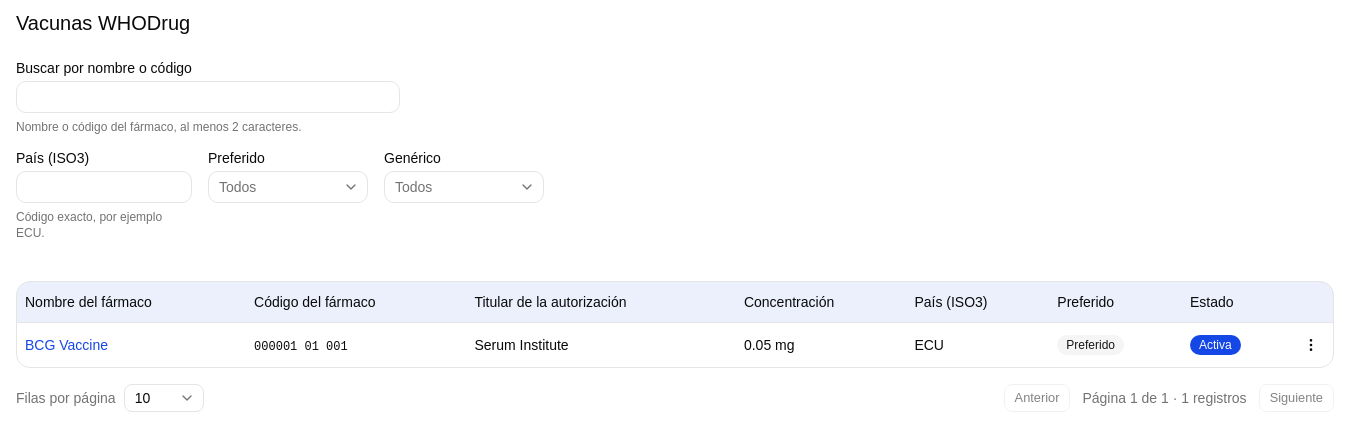
Test: VaccineWhodrugListPage — rol, filas y acciones (SPEC FE25c §3.1) › con USER no se ven el toggle, «Crear» ni «Importar»; la fila activa ofrece «Ver»
The image size is (1351, 429).
Click the button named "Acciones de la vacuna". click: (1311, 344)
box: [1297,330,1325,358]
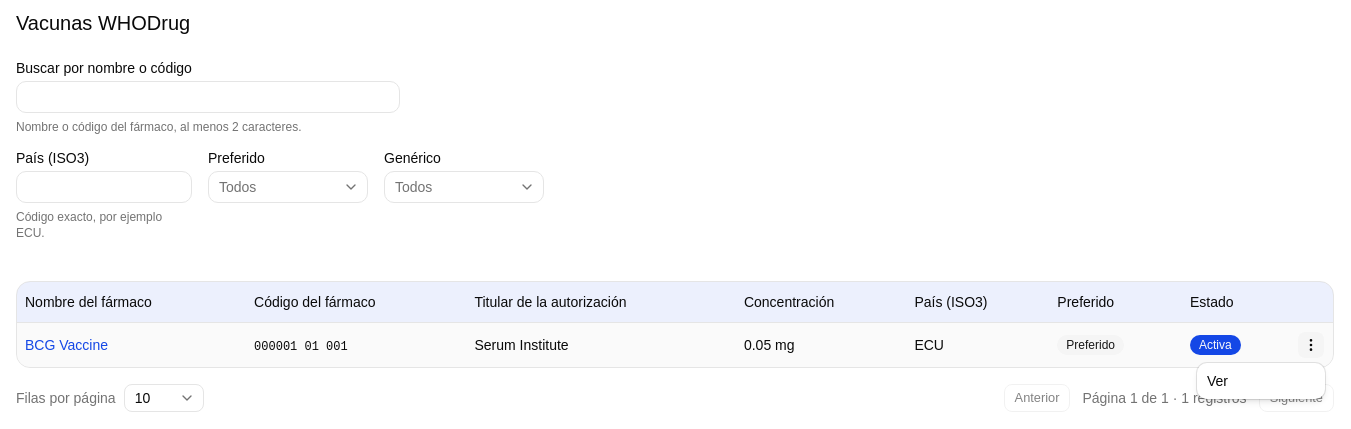
Expected: the menu item "Ver" is shown, [1207,373,1228,389]
